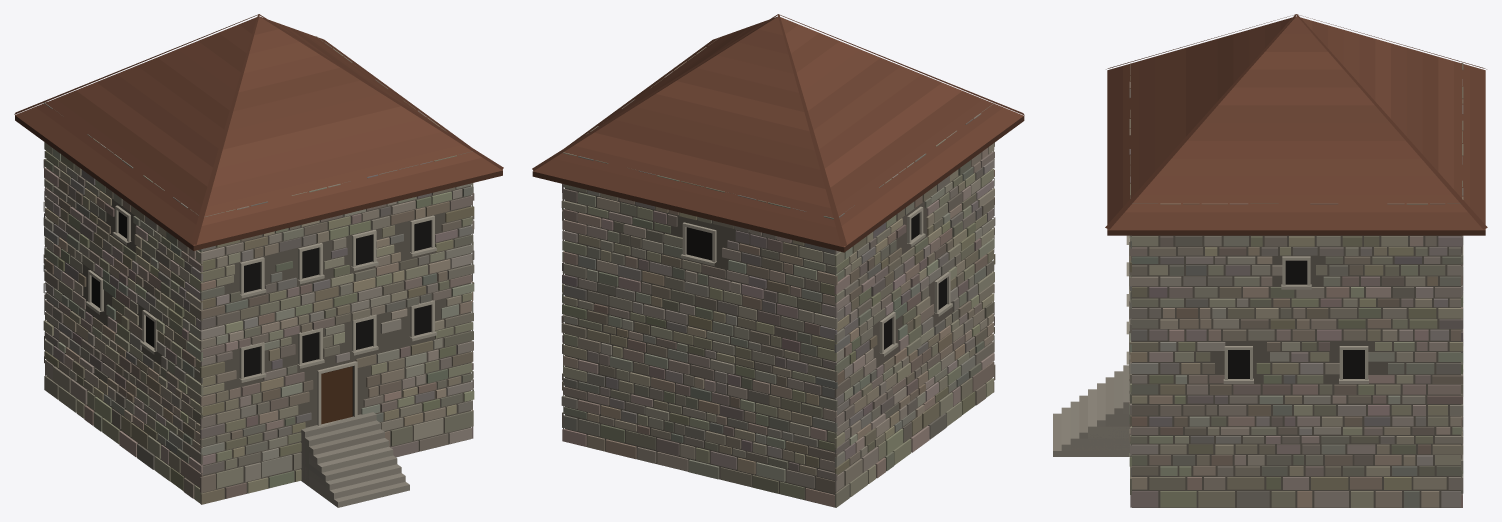
Rendered from kula_standin.glb.
3 renders of one model, left to right at view 1: azimuth 30°, elevation 25°; view 2: azimuth 150°, elevation 25°; view 3: azimuth 270°, elevation 25°, orthographic. The views are drawn at different scales.
Visible parts, largest first — view 1: Kula stand-in; view 2: Kula stand-in; view 3: Kula stand-in.
Boxes of the visible parts, x1=… form: Kula stand-in: x1=14, y1=14, x2=503, y2=507; Kula stand-in: x1=532, y1=14, x2=1024, y2=507; Kula stand-in: x1=1053, y1=14, x2=1487, y2=507.
Size of the model in its own units: 13.97 by 17.07 by 15.86.
